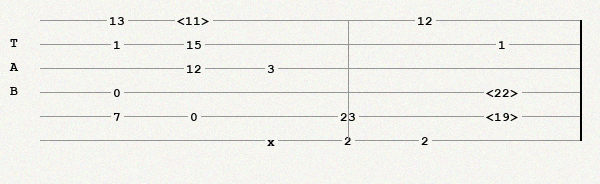0: (113, 86, 125, 98), (190, 110, 202, 122)
1: (113, 38, 125, 50), (498, 38, 510, 50)
12: (186, 62, 206, 74), (417, 14, 437, 26)
13: (109, 14, 129, 26)
15: (186, 38, 206, 50)
2: (344, 134, 356, 146), (421, 134, 433, 146)
23: (340, 110, 360, 122)
3: (267, 62, 279, 74)
7: (113, 110, 125, 122)
harmonic: (177, 14, 214, 26), (486, 110, 523, 122), (486, 86, 523, 98)
x: (267, 135, 279, 145)
